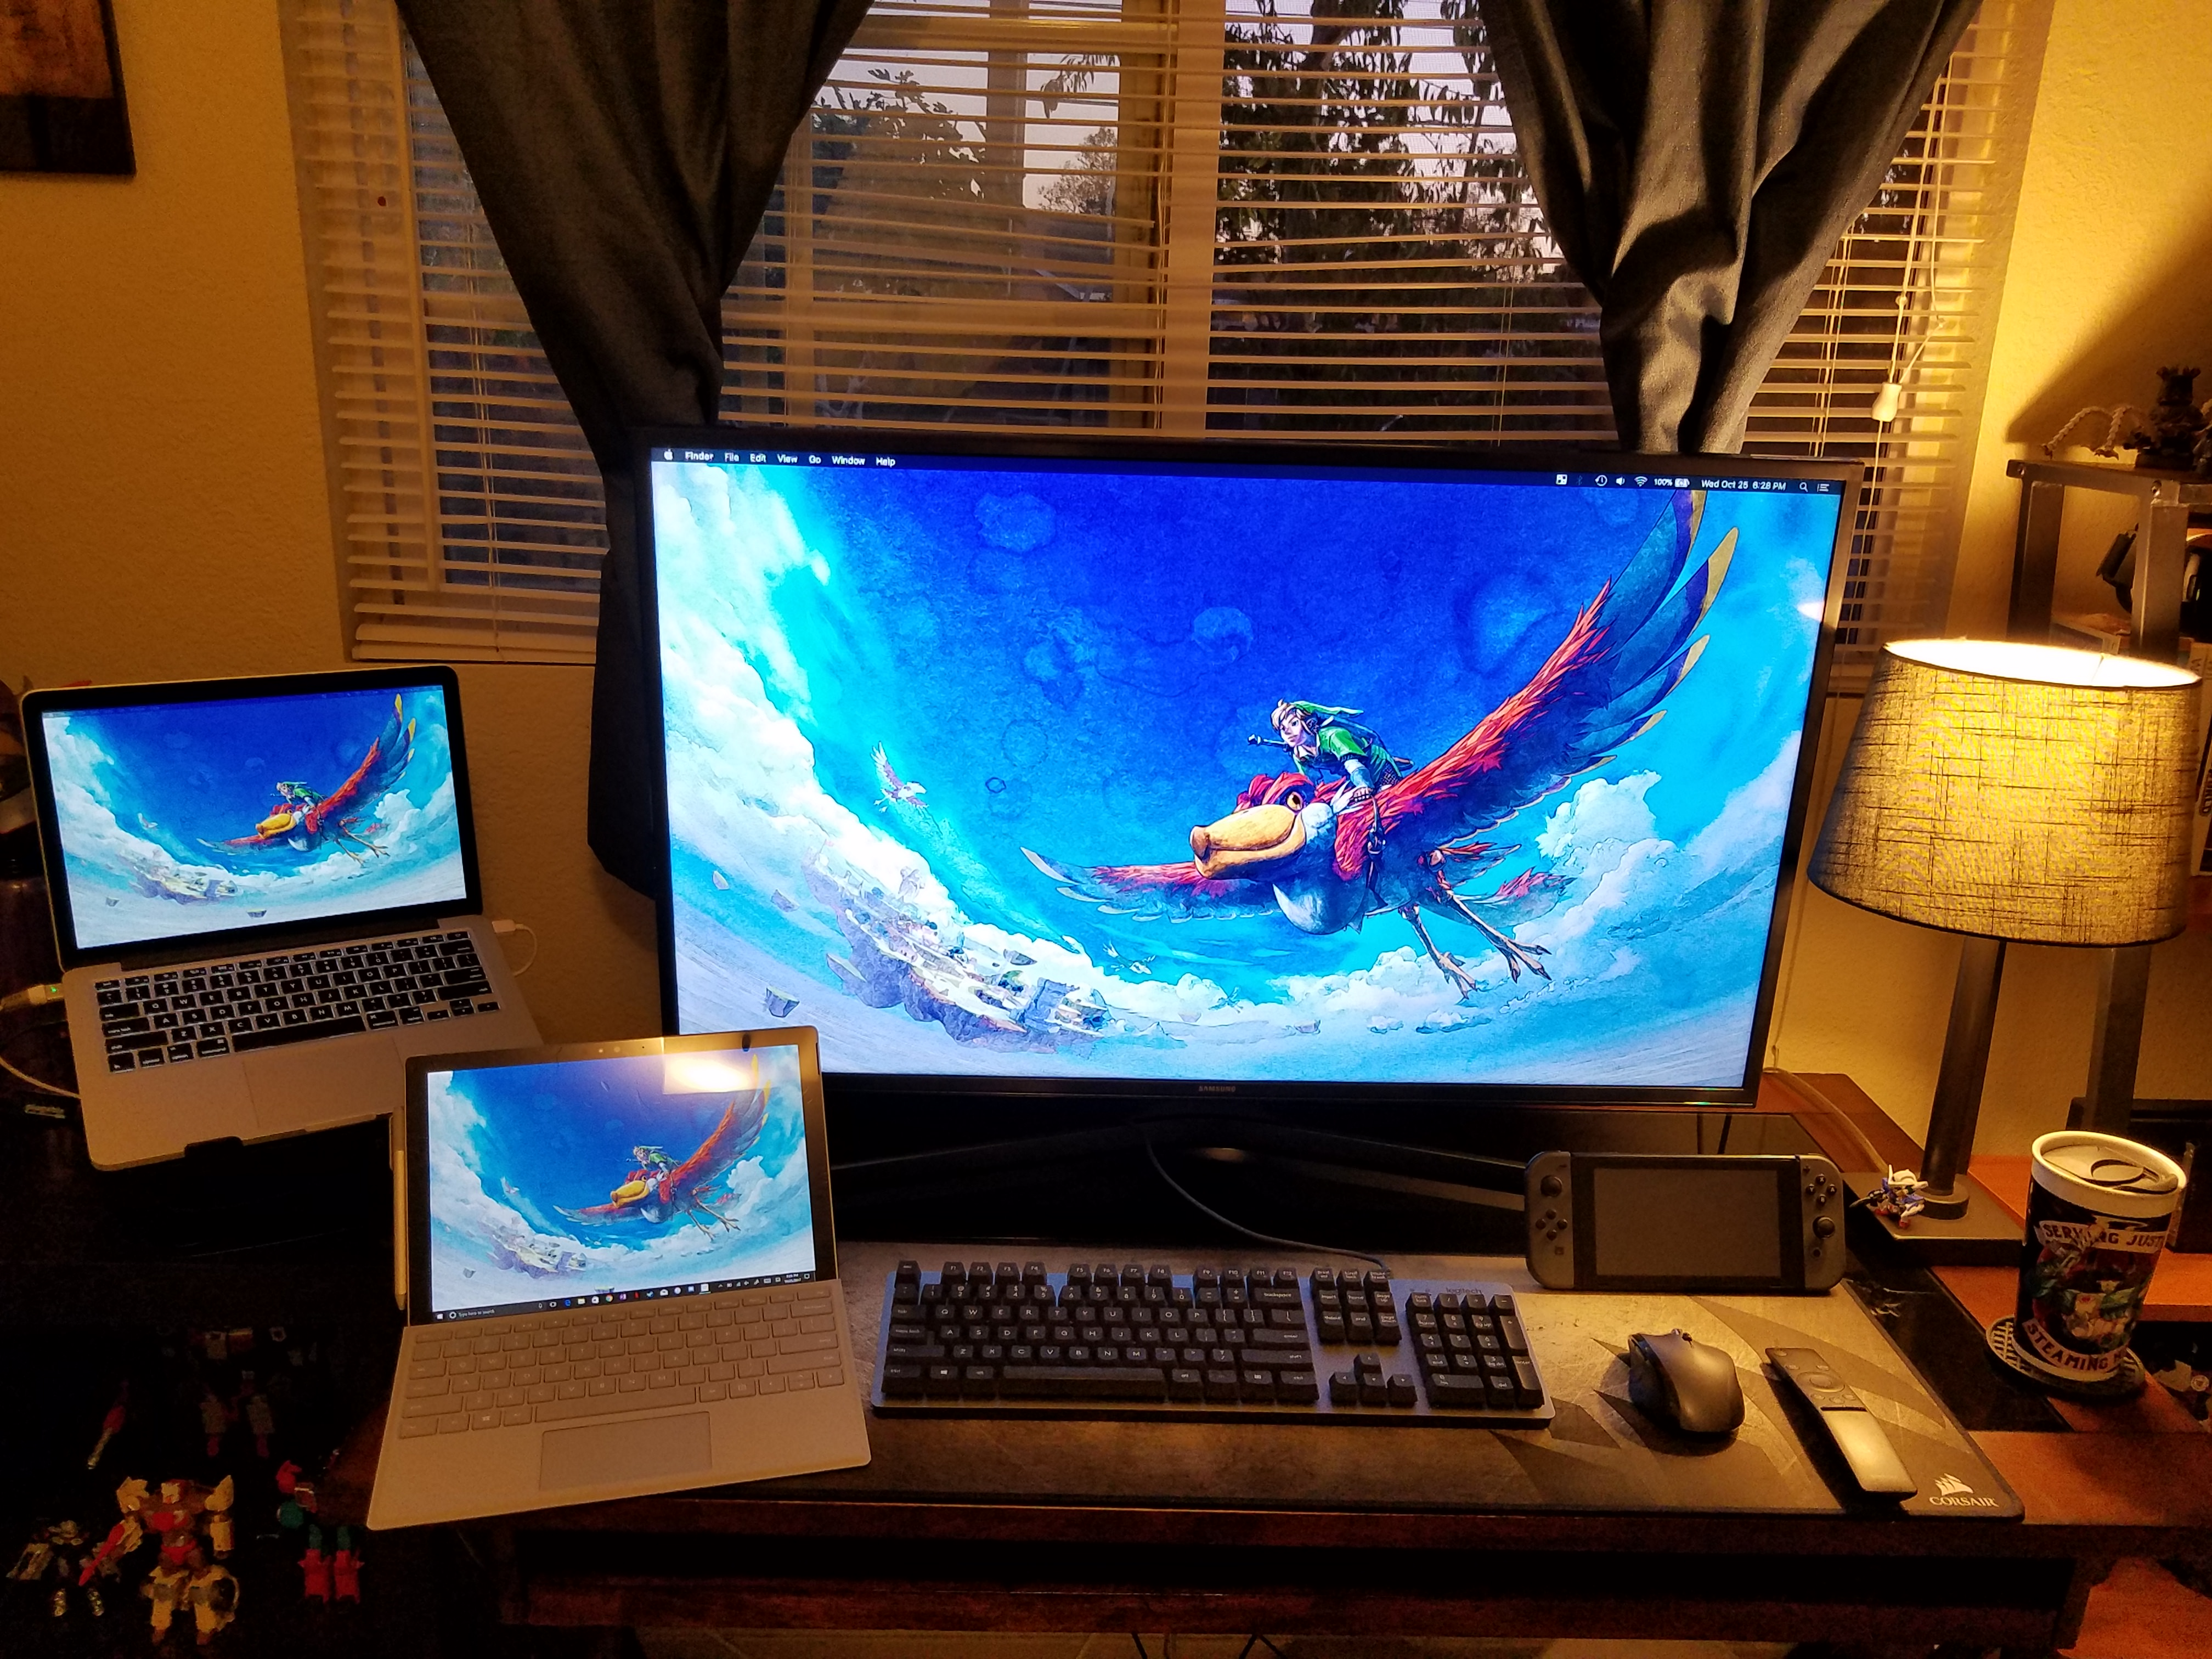Cup: (2005, 1126, 2188, 1384)
Decoration (Miniature): (80, 1298, 296, 1476), (85, 1473, 240, 1649), (258, 1427, 378, 1607), (5, 1507, 101, 1635), (1846, 1168, 1928, 1230)
Desk (Generic): (0, 1077, 2212, 1659)
Drink Coaster: (1982, 1319, 2172, 1399)
Gaming Console: (1519, 1148, 1848, 1305)
Keyboard (Generic): (874, 1258, 1557, 1431)
Lamp (Desk): (1806, 624, 2203, 1258)
Laptop (OSX): (16, 669, 554, 1176)
Laptop (Windows): (361, 1011, 874, 1556)
Laptop Stand: (91, 1093, 416, 1229)
Monitor (Landscape): (624, 422, 1876, 1131)
Mouse (Generic): (1618, 1317, 1750, 1467)
Mousepad (Gaming): (451, 1239, 2038, 1518)
